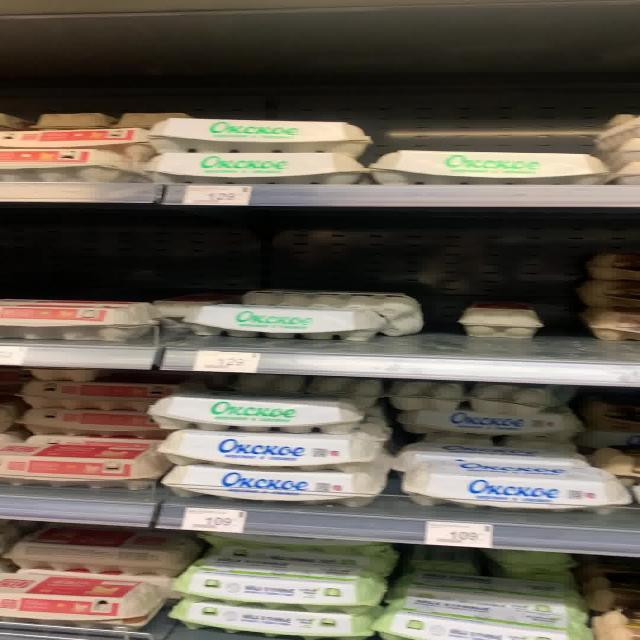egg box: (164, 547, 388, 610), (398, 461, 628, 517), (386, 573, 590, 629), (0, 524, 201, 579), (149, 467, 388, 509), (0, 569, 161, 629), (149, 389, 366, 433), (370, 147, 608, 186), (5, 436, 164, 493), (145, 116, 369, 155), (166, 598, 377, 638), (175, 304, 386, 343), (161, 428, 374, 465), (140, 152, 367, 183), (400, 407, 578, 441)
